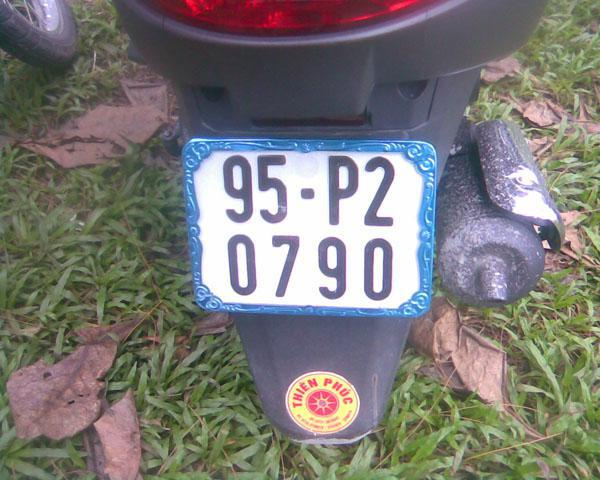License_Plate: (177, 135, 436, 312)
